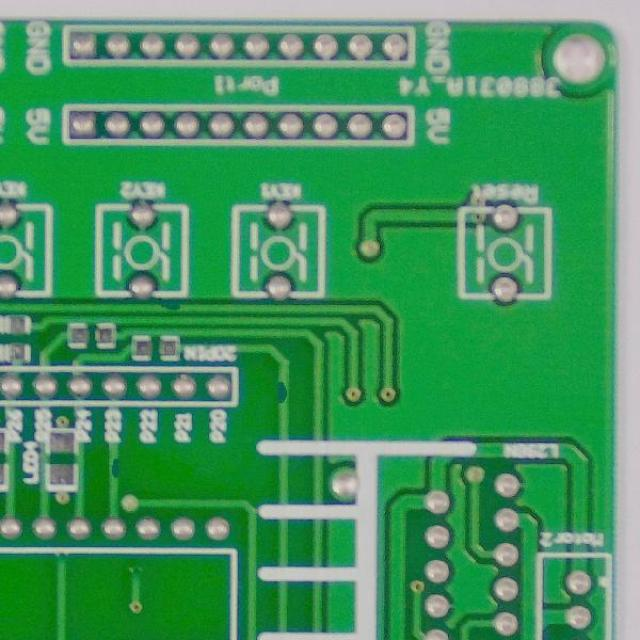MouseBite: (274, 374, 291, 408), (105, 450, 122, 483), (153, 298, 184, 314)
